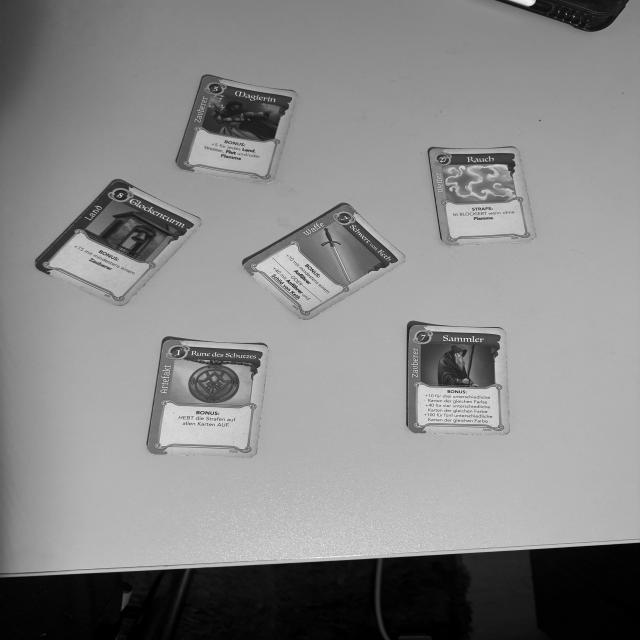Clock Tower: (29, 175, 207, 313)
Collector: (405, 321, 516, 435)
Elemental Enchantress: (170, 72, 298, 185)
Rune Of Protection: (147, 335, 272, 461)
Smoke: (423, 142, 541, 249)
Sword of Keth: (236, 200, 408, 324)
